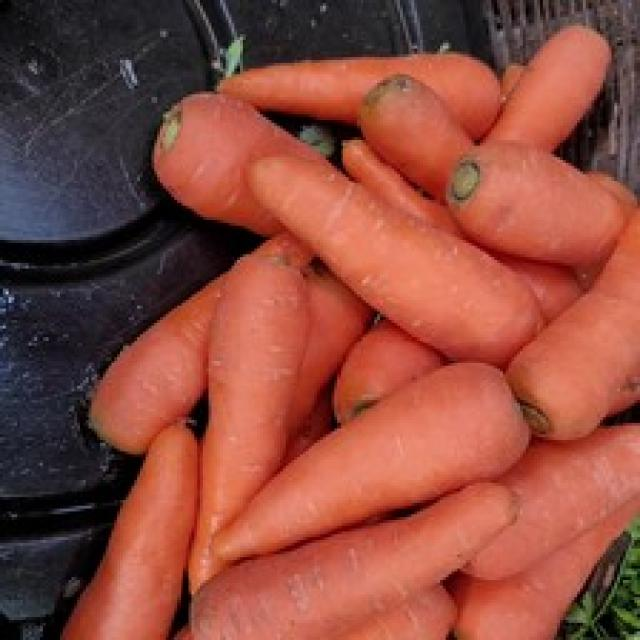Fresh_Carrot: (254, 155, 542, 363), (216, 265, 279, 640)
